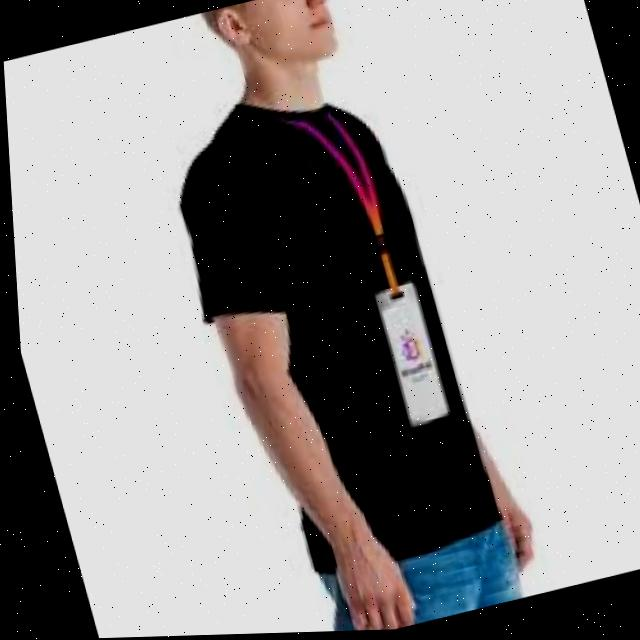id_card: (285, 84, 461, 447)
